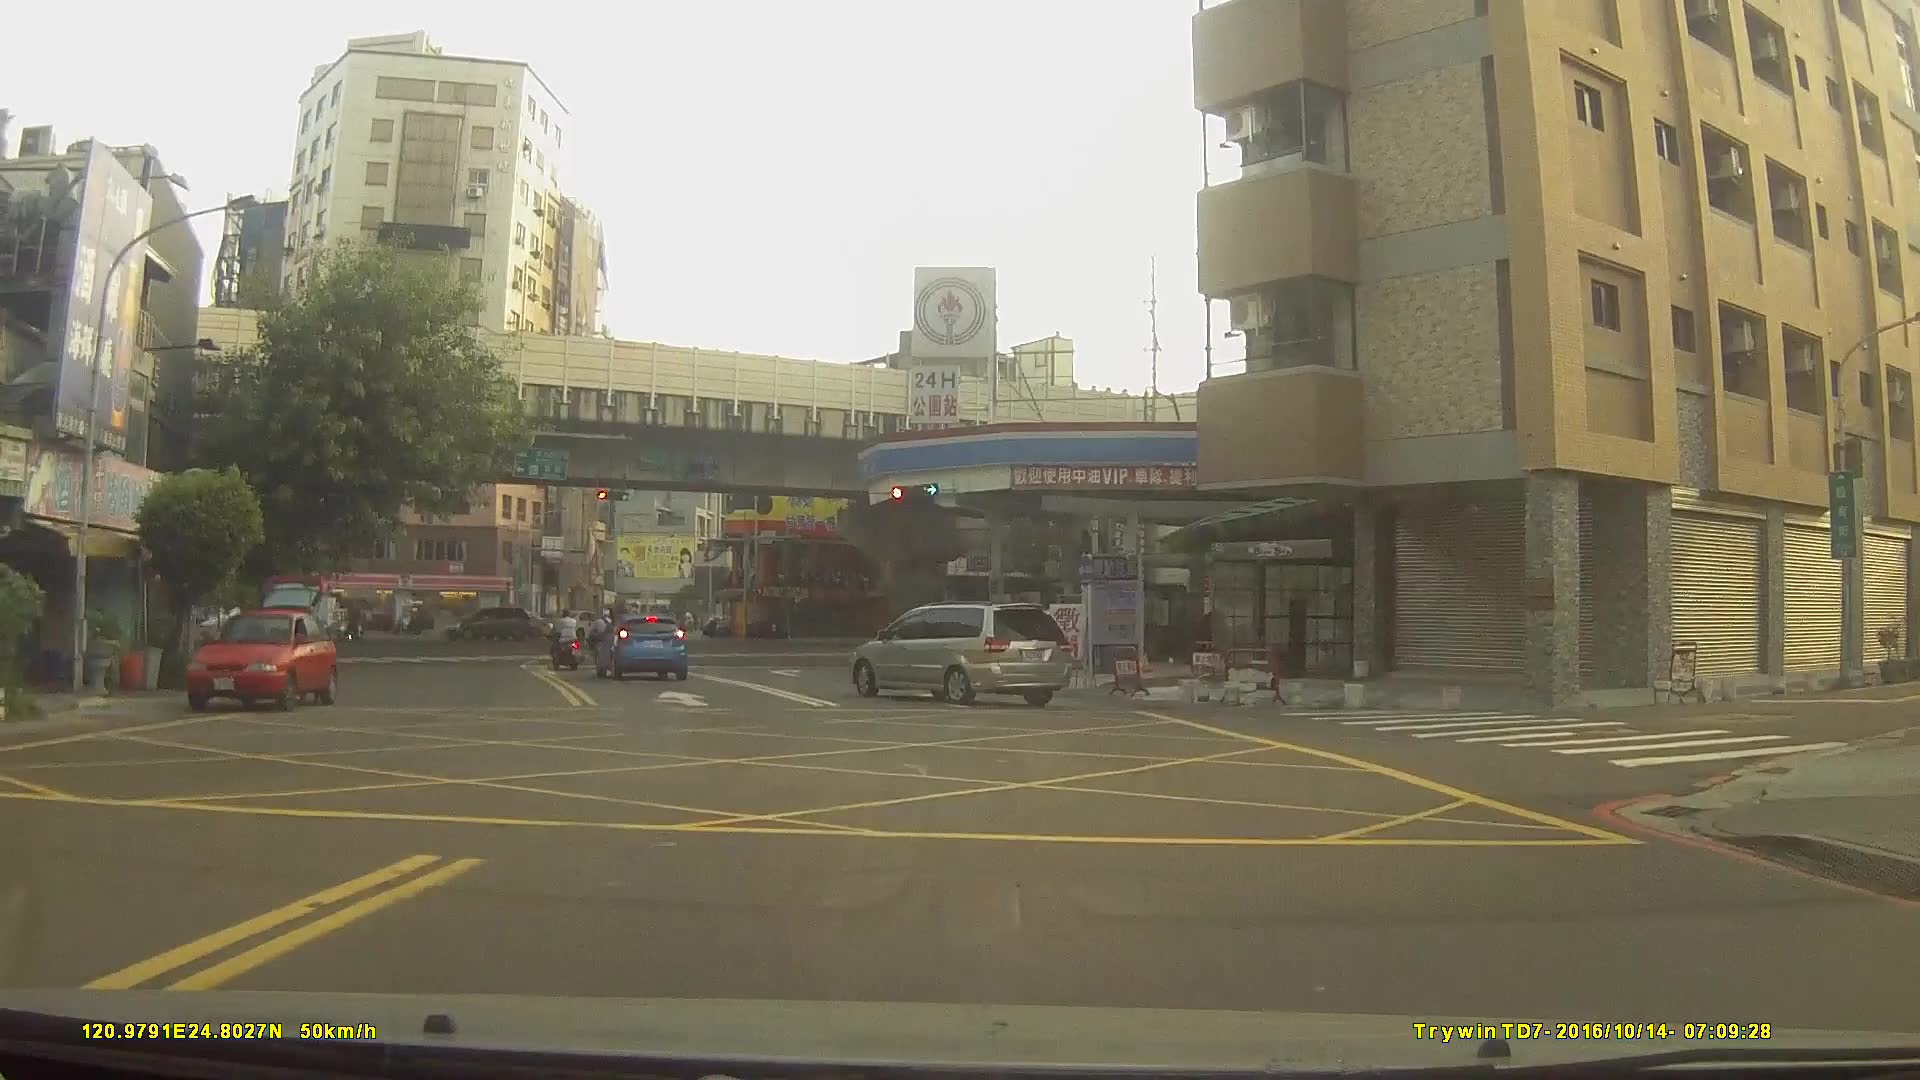rider: (547, 611, 581, 671), (341, 601, 367, 643)
vehicle: (850, 602, 1070, 705), (184, 605, 338, 712), (590, 611, 689, 680), (441, 608, 535, 645), (538, 604, 617, 638)
